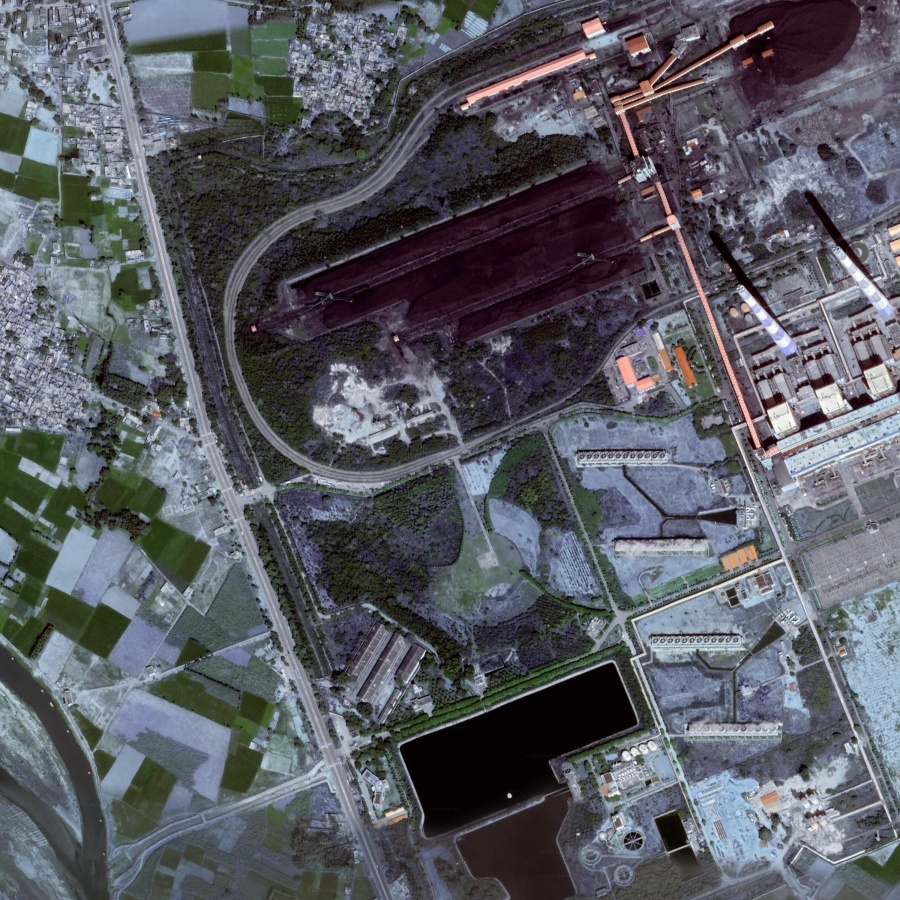PowerPlant: (379, 653, 649, 881)
